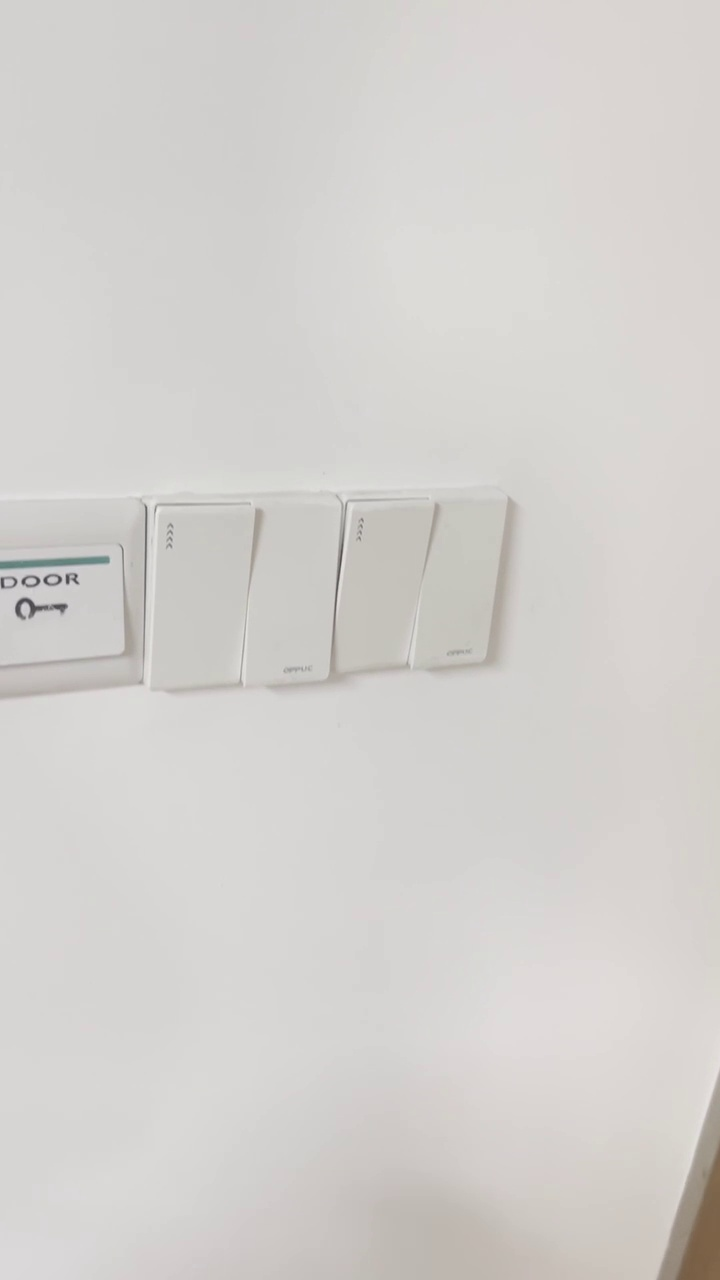button: (148, 480, 336, 690), (332, 480, 515, 669)
